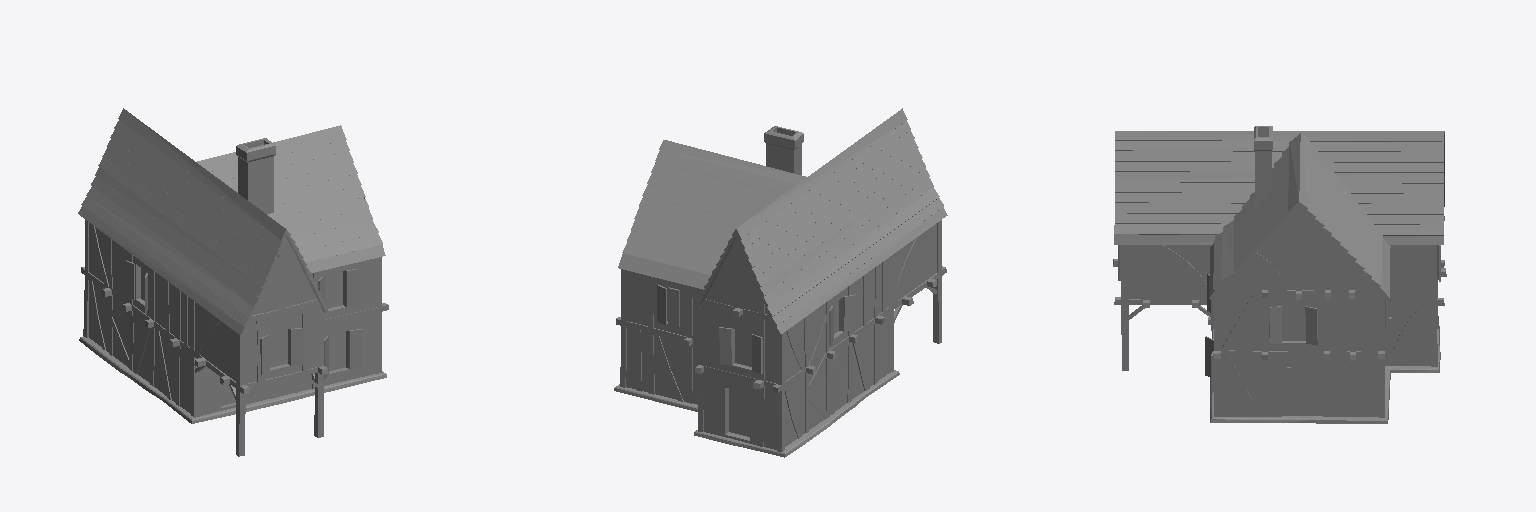
Rendered from Casa1.obj.
The picture shows the model from 3 angles: view 1: azimuth 30°, elevation 25°; view 2: azimuth 150°, elevation 25°; view 3: azimuth 270°, elevation 25°; orthographic projection.
Parts seen in each view (by area): view 1: Mesh_Box291; view 2: Mesh_Box291; view 3: Mesh_Box291.
Boxes of the visible parts, x1=… form: Mesh_Box291: x1=78, y1=108, x2=388, y2=456; Mesh_Box291: x1=614, y1=108, x2=947, y2=457; Mesh_Box291: x1=1113, y1=126, x2=1446, y2=423.
Size of the model in its own units: 269 by 302 by 381.